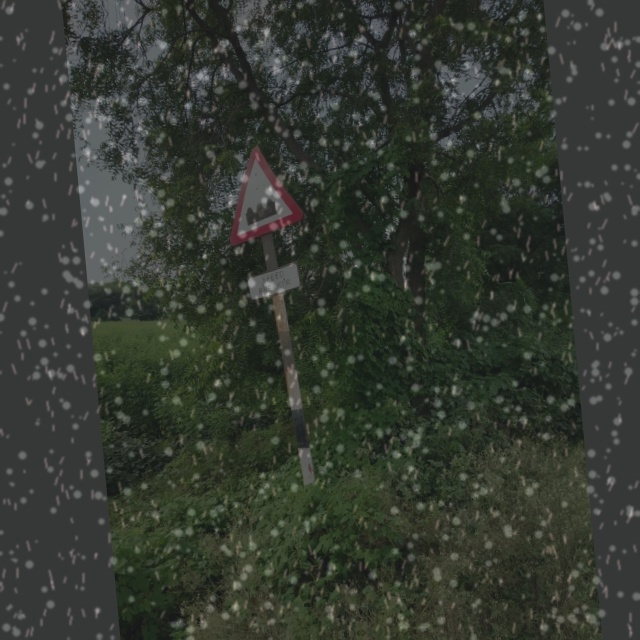Hump_or_Rough_Road: (219, 141, 309, 243)
